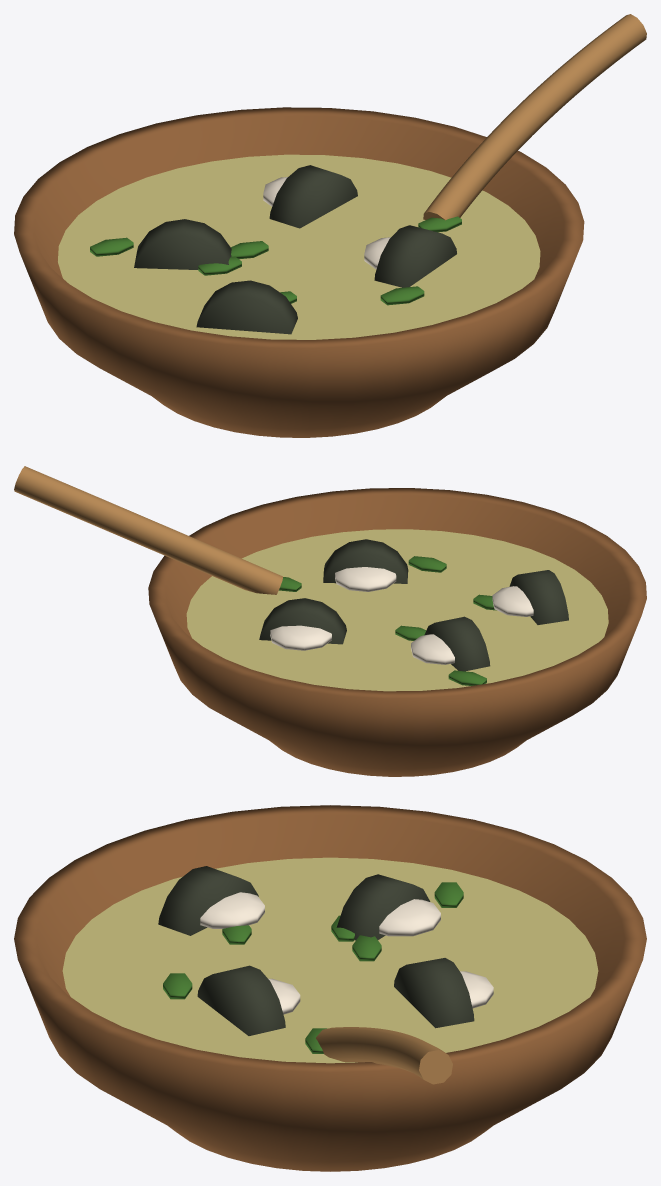
The model's file is aalsuppe.glb.
3 renders of one model, top to bottom at view 1: azimuth 30°, elevation 25°; view 2: azimuth 150°, elevation 25°; view 3: azimuth 270°, elevation 25°, orthographic. The views are drawn at different scales.
Visible parts, largest first — view 1: schale, inhalt, r, aalstueck.003, aalstueck, aalstueck.002, aalstueck.001, Sphere.006, Sphere.007; view 2: schale, inhalt, r, aalstueck.001, aalstueck.002, aalstueck, aalstueck.003, Sphere.002, Sphere.001, Sphere, Sphere.003, Sphere.006 (+1 smaller); view 3: schale, inhalt, r, aalstueck.001, aalstueck.002, aalstueck.003, aalstueck, Sphere.003, Sphere, Sphere.002, Sphere.001, Sphere.006 (+2 smaller).
Boxes of the visible parts, left/top/right/bottom form: schale: left=14, top=107, right=584, bottom=437; inhalt: left=58, top=154, right=540, bottom=339; r: left=423, top=14, right=646, bottom=220; aalstueck.003: left=196, top=280, right=297, bottom=334; aalstueck: left=134, top=219, right=231, bottom=269; aalstueck.002: left=269, top=165, right=357, bottom=228; aalstueck.001: left=374, top=225, right=456, bottom=287; Sphere.006: left=380, top=286, right=424, bottom=305; Sphere.007: left=90, top=237, right=133, bottom=256; schale: left=148, top=488, right=646, bottom=776; inhalt: left=186, top=529, right=608, bottom=691; r: left=14, top=466, right=282, bottom=594; aalstueck.001: left=323, top=539, right=408, bottom=583; aalstueck.002: left=259, top=598, right=346, bottom=644; aalstueck: left=424, top=616, right=490, bottom=671; aalstueck.003: left=509, top=570, right=568, bottom=624; Sphere.002: left=270, top=625, right=331, bottom=650; Sphere.001: left=335, top=567, right=396, bottom=591; Sphere: left=411, top=634, right=454, bottom=664; Sphere.003: left=492, top=586, right=533, bottom=616; Sphere.006: left=408, top=556, right=446, bottom=572; schale: left=14, top=805, right=646, bottom=1171; inhalt: left=62, top=857, right=598, bottom=1063; r: left=316, top=1027, right=452, bottom=1084; aalstueck.001: left=197, top=965, right=285, bottom=1035; aalstueck.002: left=394, top=958, right=474, bottom=1028; aalstueck.003: left=158, top=866, right=258, bottom=935; aalstueck: left=336, top=874, right=430, bottom=940; Sphere.003: left=200, top=892, right=264, bottom=928; Sphere: left=379, top=899, right=440, bottom=936; Sphere.002: left=460, top=971, right=493, bottom=1008; Sphere.001: left=268, top=978, right=300, bottom=1014; Sphere.006: left=163, top=973, right=192, bottom=999.
Bounding box in the file's own units: 0.2317 × 0.0797 × 0.18.
